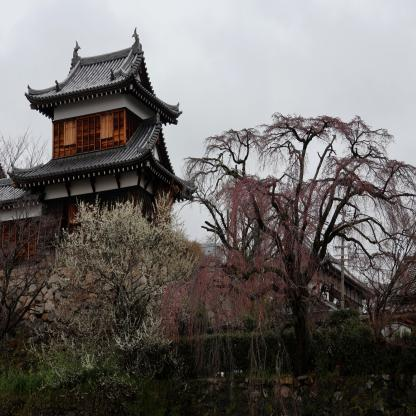Ume: (160, 110, 416, 416), (32, 190, 195, 383)
